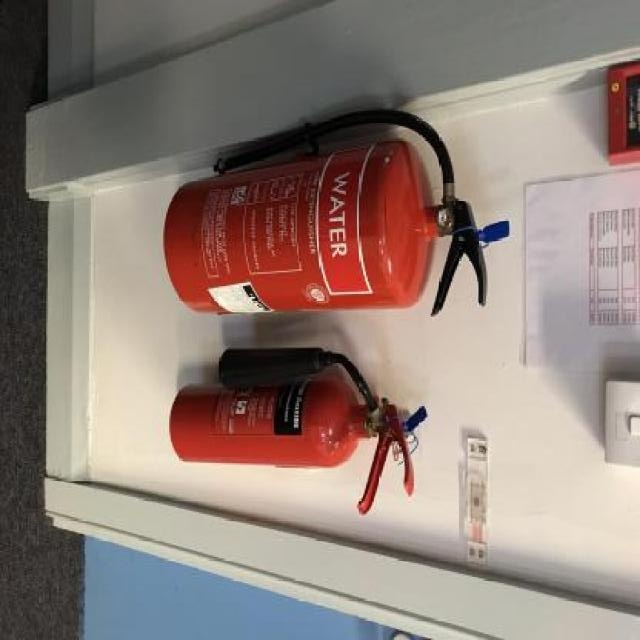fire extinguisher: (165, 110, 507, 315), (168, 347, 427, 515)
